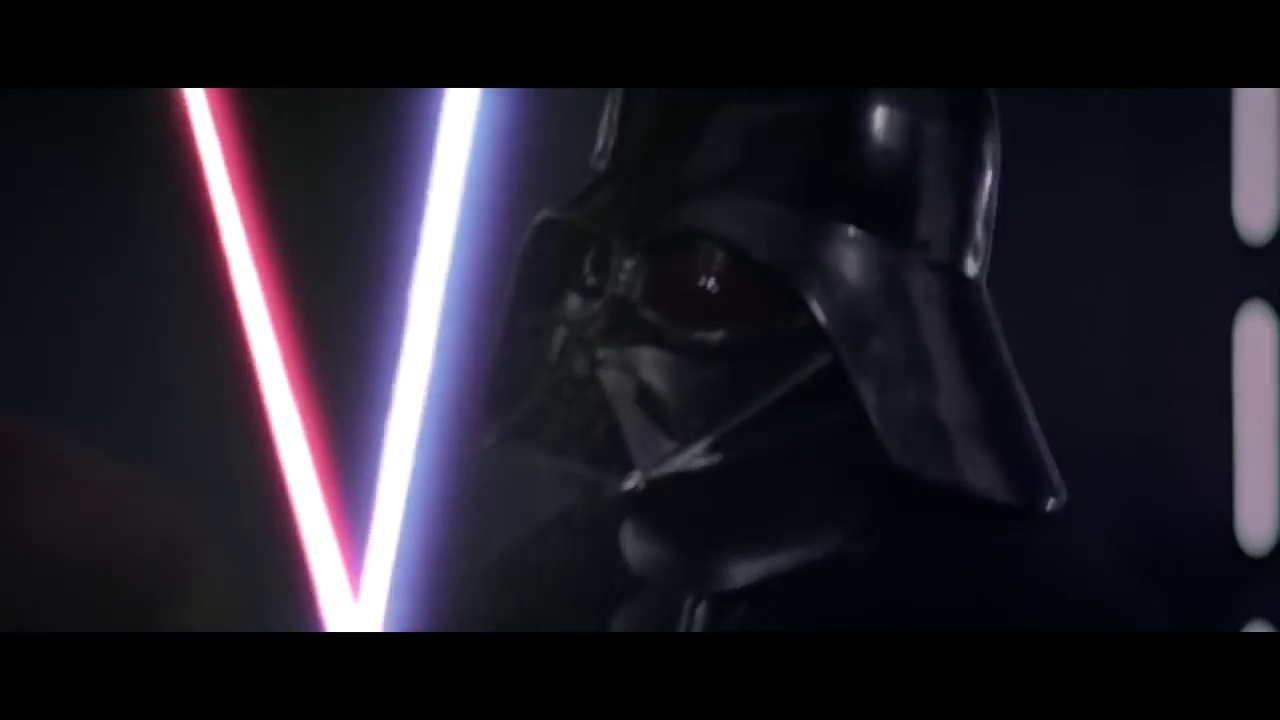lightsaber: (171, 80, 494, 623)
